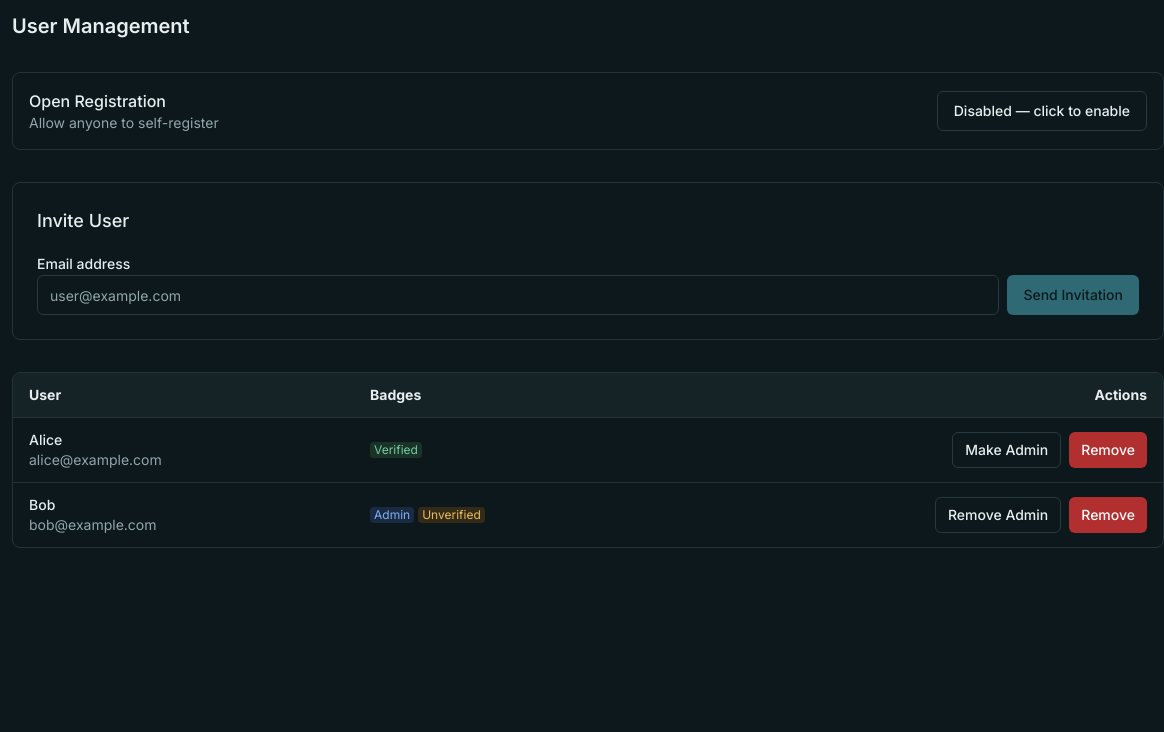
UsersClient — invite user › maps a DUPLICATE_EMAIL error code to a friendly message
Check: the text "Alice" is shown, box left=29, top=431, right=62, bottom=448
Type "dup@example.com" into the field labelled "Email address" at (518, 295), box left=37, top=275, right=999, bottom=315
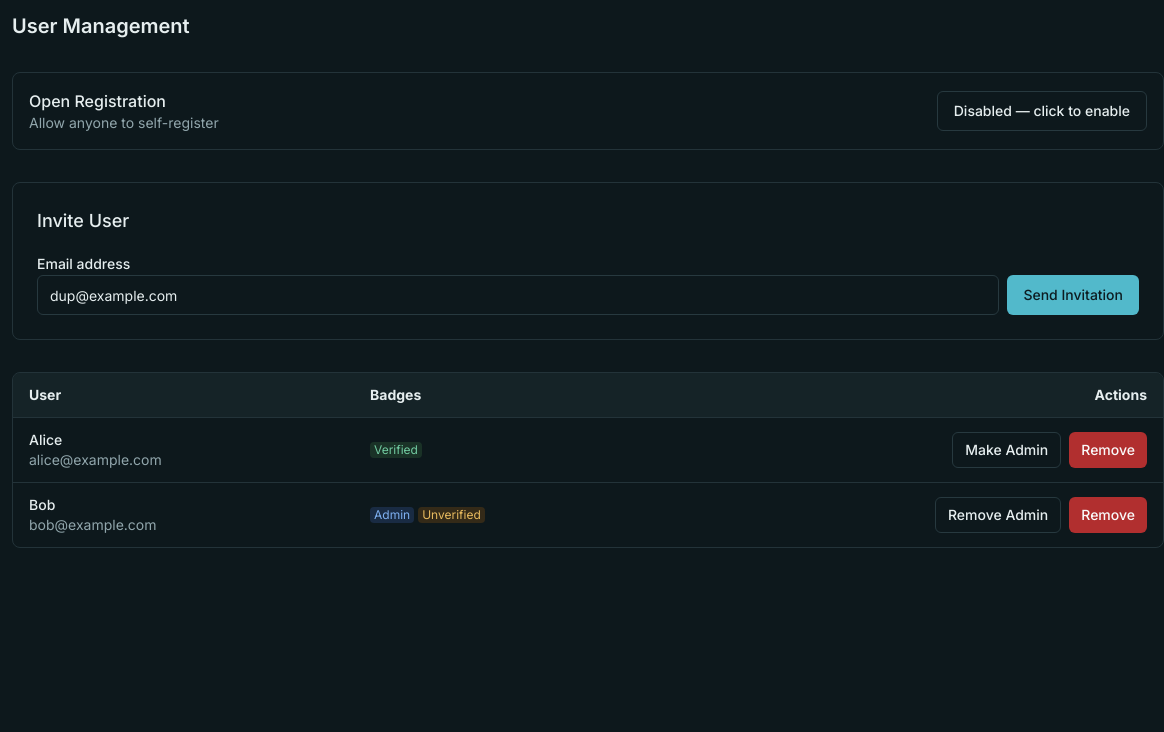
Click the button "Send Invitation" at (1073, 295), box left=1007, top=275, right=1139, bottom=315
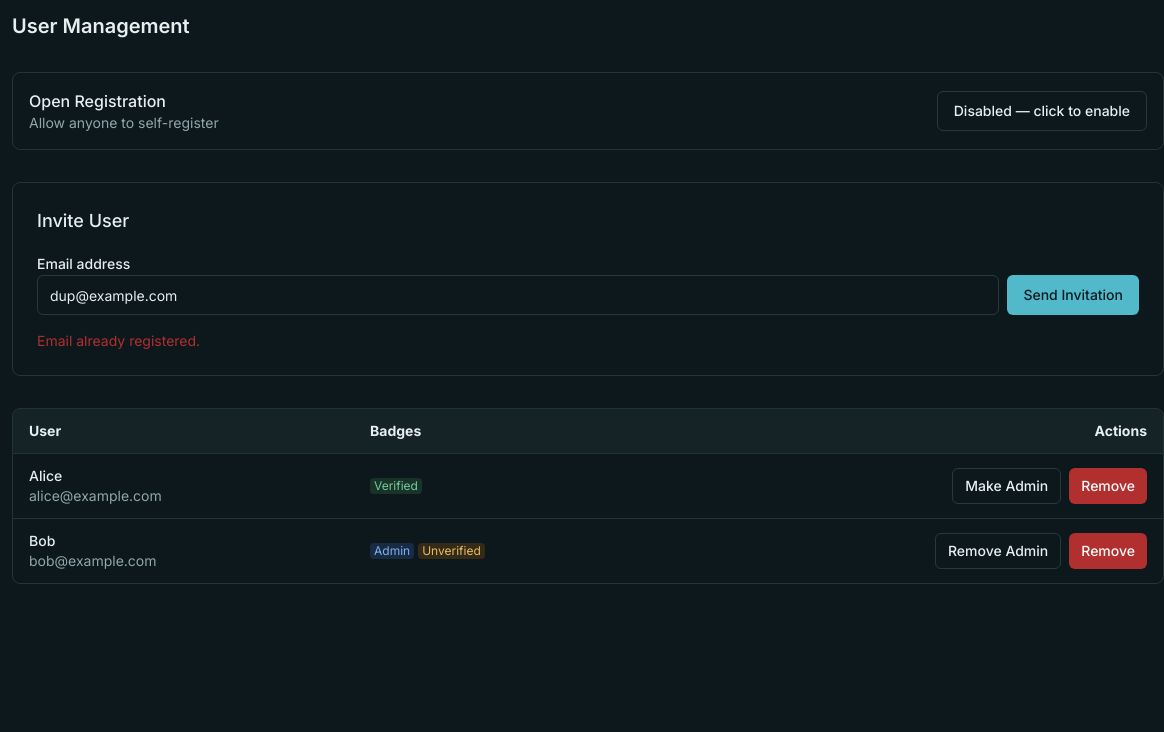
Check: the message shows "Email already registered", box left=37, top=332, right=200, bottom=349
